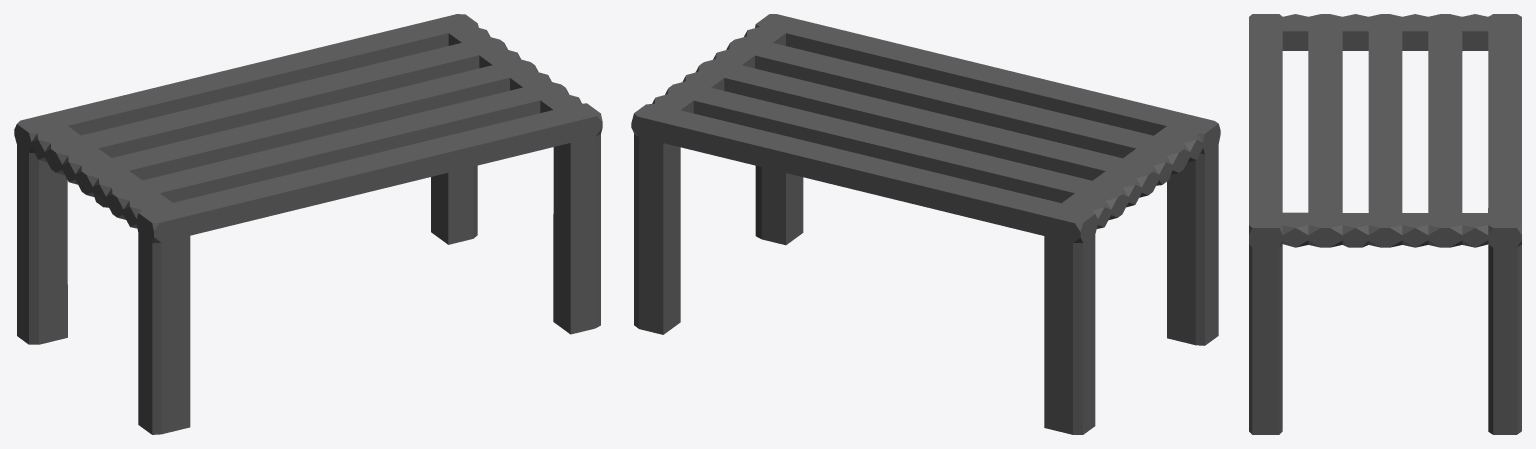
Rendered from Grill.fbx.
3 renders of one model, left to right at view 1: azimuth 30°, elevation 25°; view 2: azimuth 150°, elevation 25°; view 3: azimuth 270°, elevation 25°, orthographic. The views are drawn at different scales.
Visible parts, largest first — view 1: Grill; view 2: Grill; view 3: Grill.
Part boxes in pixels (bbox=[...]): Grill: bbox=[14, 14, 602, 434]; Grill: bbox=[631, 14, 1220, 434]; Grill: bbox=[1249, 14, 1521, 434].
Size of the model in its own units: 0.9319 by 0.4207 by 0.5024.
Materials: 1 (1 with a texture image).
